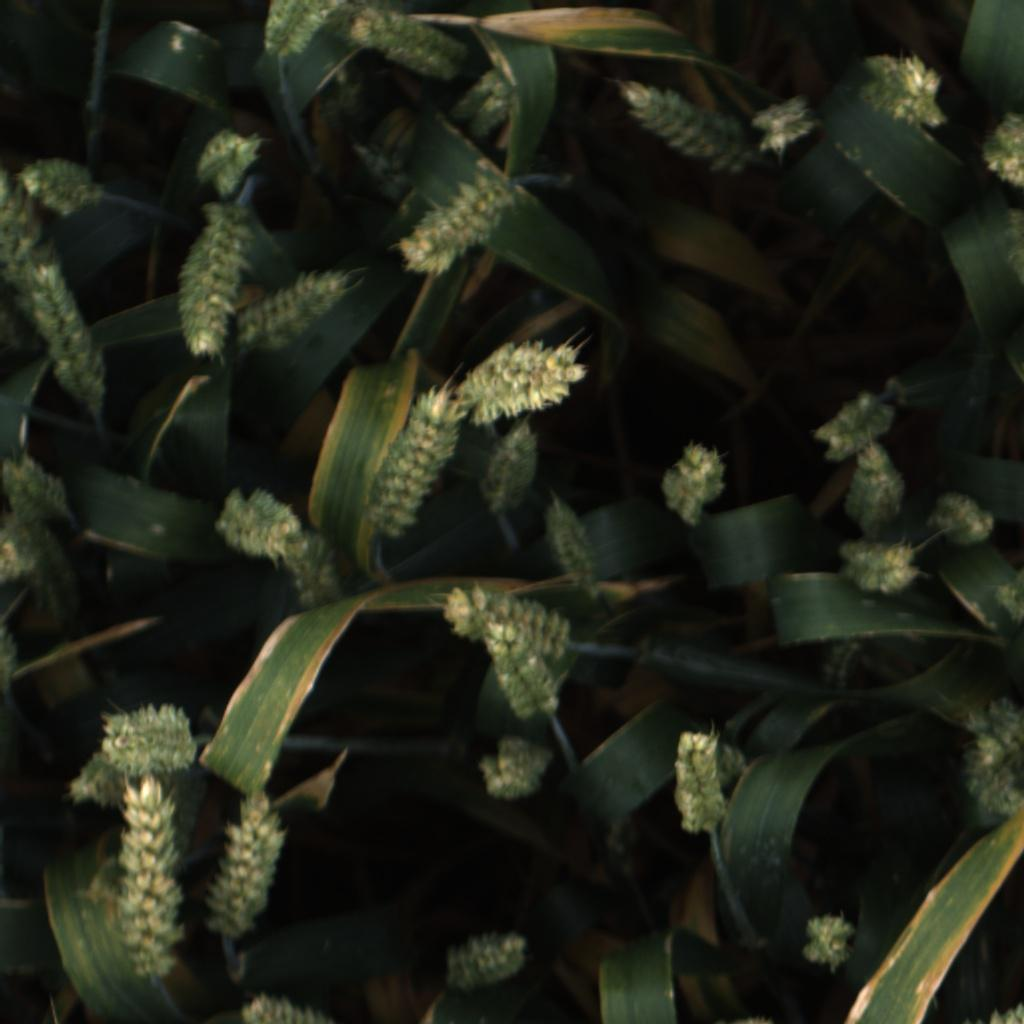0-0: (104, 775, 186, 983), (358, 385, 468, 540), (619, 77, 766, 180), (170, 195, 256, 363), (206, 782, 291, 942), (454, 333, 591, 428), (25, 263, 113, 408), (396, 176, 517, 280), (236, 265, 354, 354), (1, 141, 59, 319), (360, 13, 490, 90), (90, 696, 206, 780), (440, 581, 576, 652), (208, 478, 313, 564), (275, 529, 364, 614), (62, 737, 155, 816), (670, 725, 733, 841), (482, 621, 559, 715), (864, 49, 949, 134), (836, 444, 910, 541), (0, 455, 78, 543), (474, 423, 549, 514), (657, 437, 728, 532), (444, 922, 532, 997), (307, 70, 383, 154), (804, 391, 895, 459), (14, 151, 101, 221), (441, 68, 519, 146), (959, 739, 1024, 832), (346, 132, 421, 208), (475, 730, 552, 803), (928, 480, 1002, 553), (260, 0, 345, 62), (832, 537, 921, 596), (193, 125, 263, 200), (546, 490, 595, 591), (750, 91, 826, 155), (963, 692, 1024, 770), (236, 987, 364, 1024), (974, 105, 1024, 193), (799, 906, 860, 977), (598, 807, 648, 889), (0, 512, 46, 589), (319, 1, 386, 52), (818, 630, 870, 695), (691, 736, 749, 792), (0, 614, 27, 699), (990, 560, 1024, 626), (960, 997, 1024, 1024)
